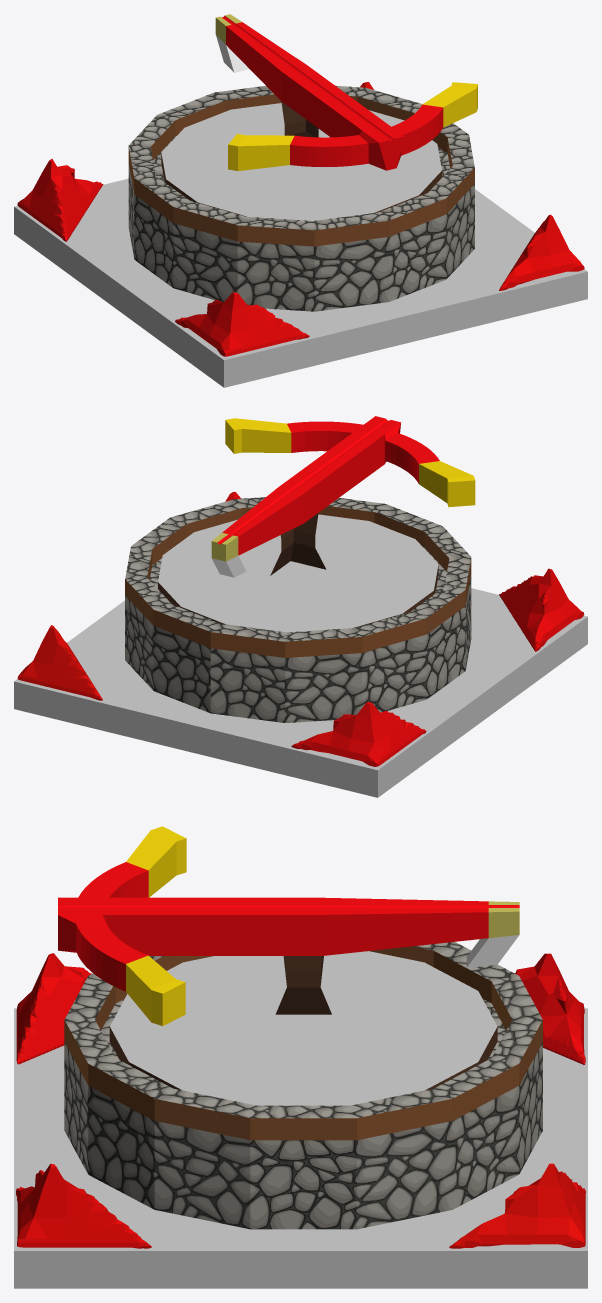
The model's file is CrossbowFire.fbx.
3 renders of one model, top to bottom at view 1: azimuth 30°, elevation 25°; view 2: azimuth 150°, elevation 25°; view 3: azimuth 270°, elevation 25°, orthographic. The views are drawn at different scales.
Parts seen in each view (by area): view 1: Cylinder.002, Cube.011, Cylinder.001, Cube.009, Cone.001, Cone.002, Cone, Cube.010; view 2: Cylinder.002, Cube.011, Cylinder.001, Cube.009, Cone.002, Cone.001, Cone.003, Cube.010; view 3: Cylinder.002, Cube.011, Cylinder.001, Cube.009, Cone, Cone.003, Cone.001, Cone.002, Cube.010.
Boxes of the visible parts, x1,y1,x2,y2 form: Cylinder.002: (128,85,474,311); Cube.011: (14,178,587,387); Cylinder.001: (161,103,441,220); Cube.009: (215,14,477,171); Cone.001: (175,292,309,356); Cone.002: (17,158,103,241); Cone: (499,214,584,290); Cube.010: (281,101,318,137); Cylinder.002: (125,497,471,722); Cube.011: (14,588,587,797); Cylinder.001: (158,514,438,632); Cube.009: (211,416,475,577); Cone.002: (291,702,426,766); Cone.001: (499,568,584,651); Cone.003: (17,625,102,700); Cube.010: (270,513,326,575); Cylinder.002: (64,942,542,1229); Cube.011: (14,1008,587,1288); Cylinder.001: (109,951,497,1105); Cube.009: (58,826,519,1026); Cone: (16,1163,151,1248); Cone.003: (449,1163,585,1248); Cone.001: (16,953,91,1064); Cone.002: (514,953,585,1064); Cube.010: (275,956,331,1014).
Bounding box in the file's own units: 277 × 140 × 277.
